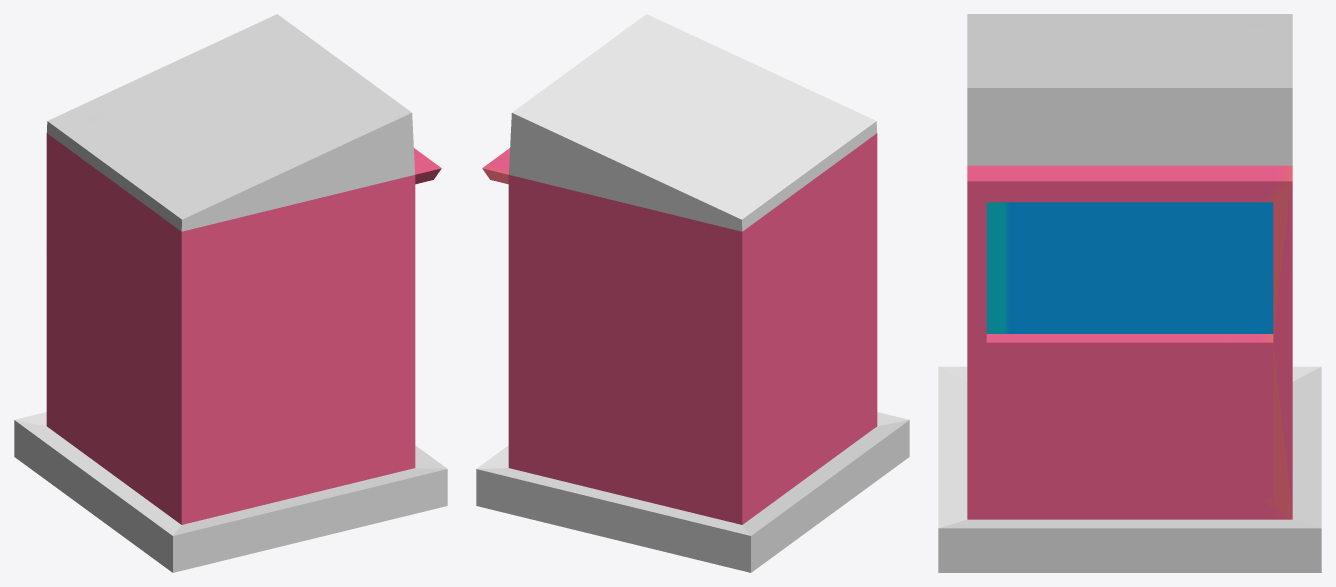
File: build_5_2.dae
3 views of the same model, side by side, from view 1: azimuth 30°, elevation 25°; view 2: azimuth 150°, elevation 25°; view 3: azimuth 270°, elevation 25° (orthographic). The views are drawn at different scales.
Parts seen in each view (by area): view 1: house_6; view 2: house_6; view 3: house_6.
Part boxes in pixels (left/top/right/bottom): house_6: left=14, top=14, right=447, bottom=572; house_6: left=476, top=14, right=909, bottom=572; house_6: left=938, top=14, right=1321, bottom=572.
Size of the model in its own units: 2.54 by 2.49 by 3.37.
1 material, 1 textured.
